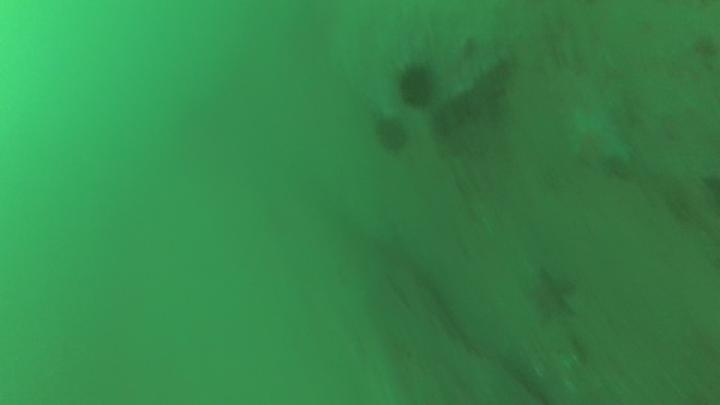echinus: (388, 56, 442, 116)
starfish: (564, 102, 636, 181), (520, 266, 585, 326)
